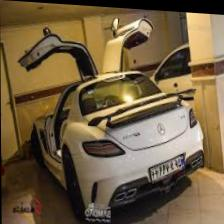plate: (149, 150, 185, 180)
